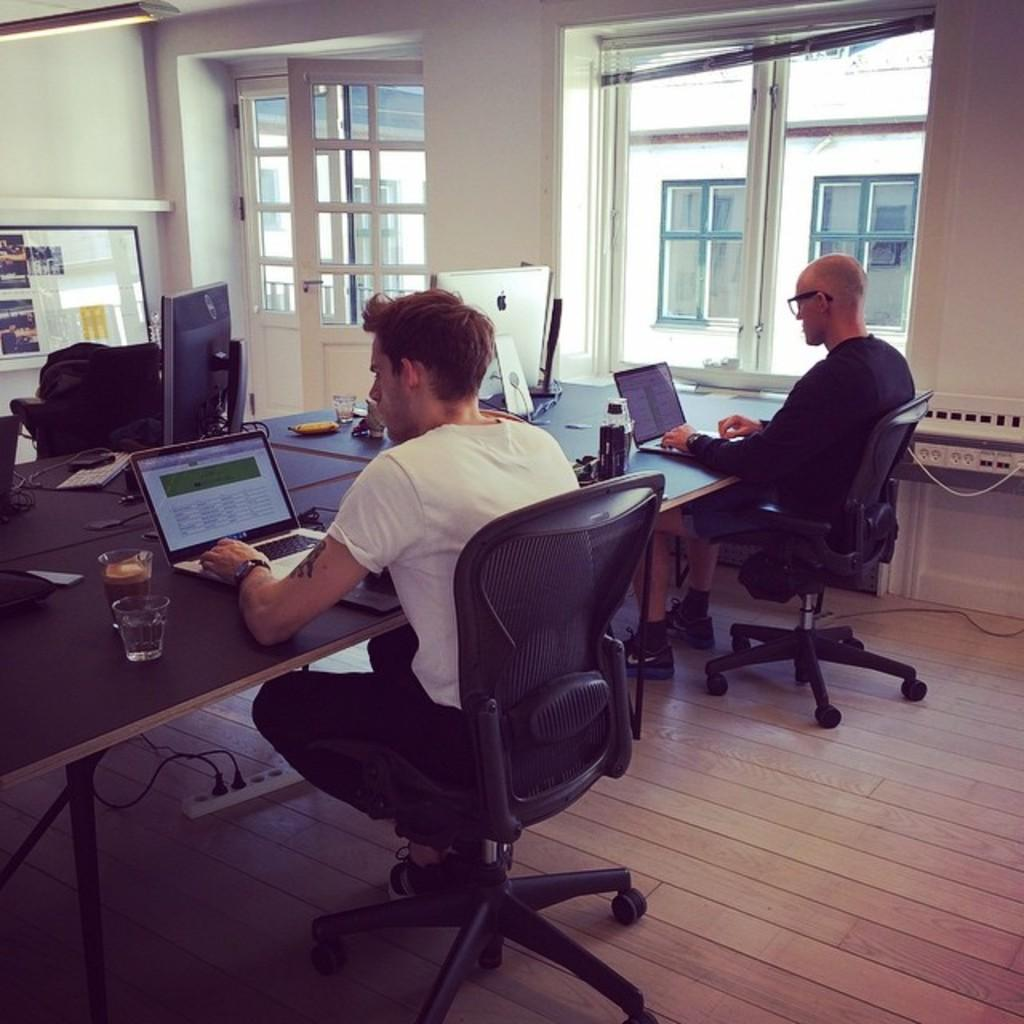Chair: (238, 469, 682, 1002), (699, 387, 930, 733), (6, 346, 162, 458)
